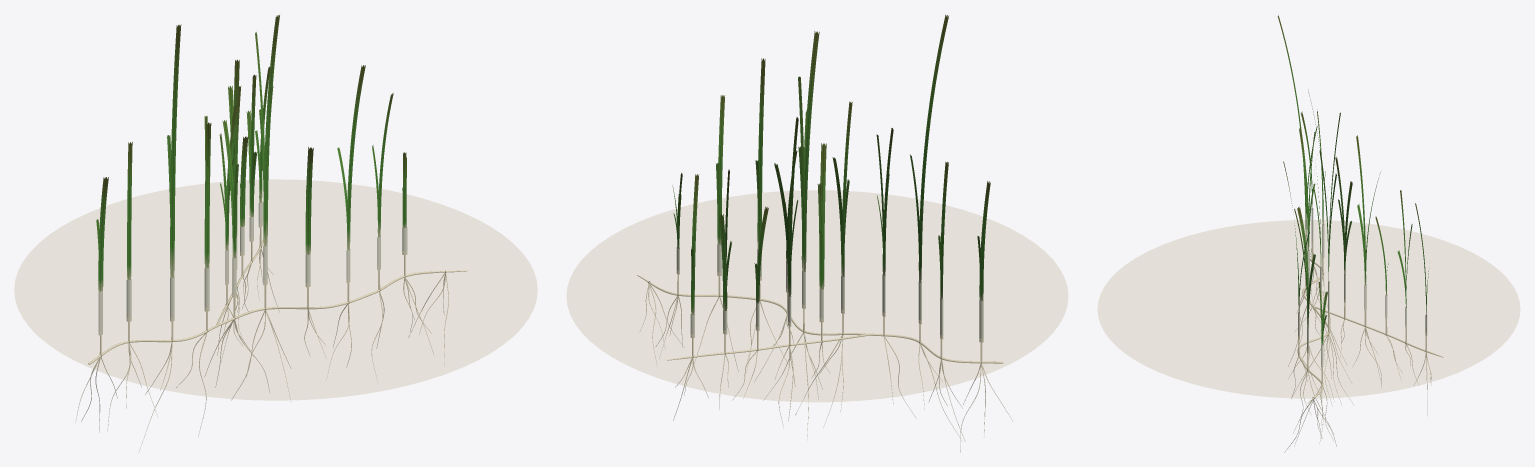
Rendered from halodule-uninervis.glb.
3 renders of one model, left to right at view 1: azimuth 30°, elevation 25°; view 2: azimuth 150°, elevation 25°; view 3: azimuth 270°, elevation 25°, orthographic. The views are drawn at different scales.
Visible parts, largest first — view 1: Sediment, Leaves, Roots, LeafSheaths, Rhizome, ErectStems; view 2: Sediment, Leaves, Roots, LeafSheaths, Rhizome, ErectStems; view 3: Sediment, Leaves, Roots, LeafSheaths, Rhizome.
Boxes of the visible parts, <box> form: Sediment: <box>14,179,537,400</box>; Leaves: <box>96,15,406,291</box>; Roots: <box>75,248,448,452</box>; LeafSheaths: <box>98,201,407,335</box>; Rhizome: <box>88,240,467,364</box>; ErectStems: <box>99,227,405,355</box>; Sediment: <box>566,190,1068,401</box>; Leaves: <box>672,14,990,314</box>; Roots: <box>639,283,1012,452</box>; LeafSheaths: <box>676,244,983,342</box>; Rhizome: <box>637,275,1003,363</box>; ErectStems: <box>677,274,982,361</box>; Sediment: <box>1097,220,1520,398</box>; Leaves: <box>1277,15,1429,345</box>; Roots: <box>1284,265,1431,452</box>; LeafSheaths: <box>1298,208,1427,367</box>; Rhizome: <box>1297,254,1443,404</box>.
Bounding box in the file's own units: 0.2391 × 0.2192 × 0.2391.
7 materials, 1 textured.
